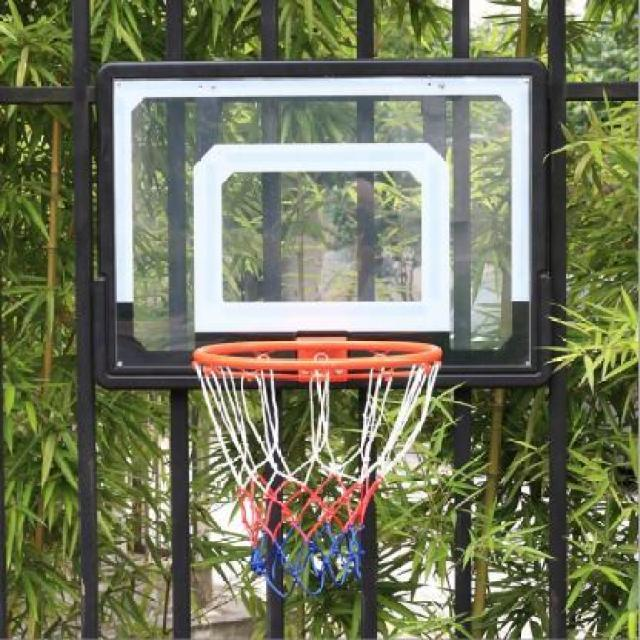rim: (192, 348, 444, 594)
